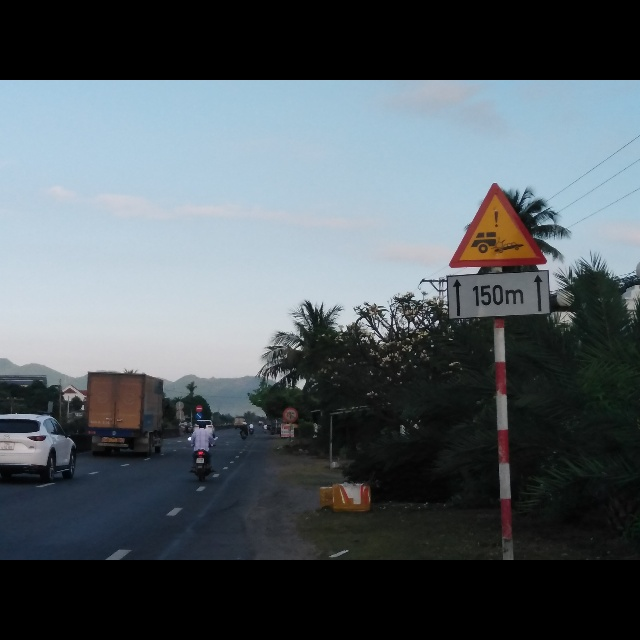Đoạn đường hay xảy ra tai nạn: (449, 181, 546, 271)
